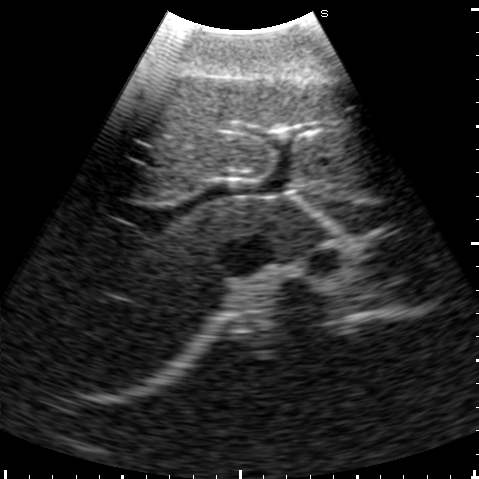IVC: (219, 234, 273, 276)
S1: (191, 198, 334, 262)
S2: (295, 190, 426, 234)
S3: (285, 78, 413, 200)
S4: (131, 76, 299, 200)
